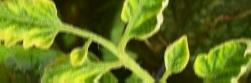Tomato leaf yellow virus: (0, 0, 66, 57), (187, 36, 251, 83), (114, 0, 174, 42), (37, 52, 110, 83), (160, 35, 187, 78)
